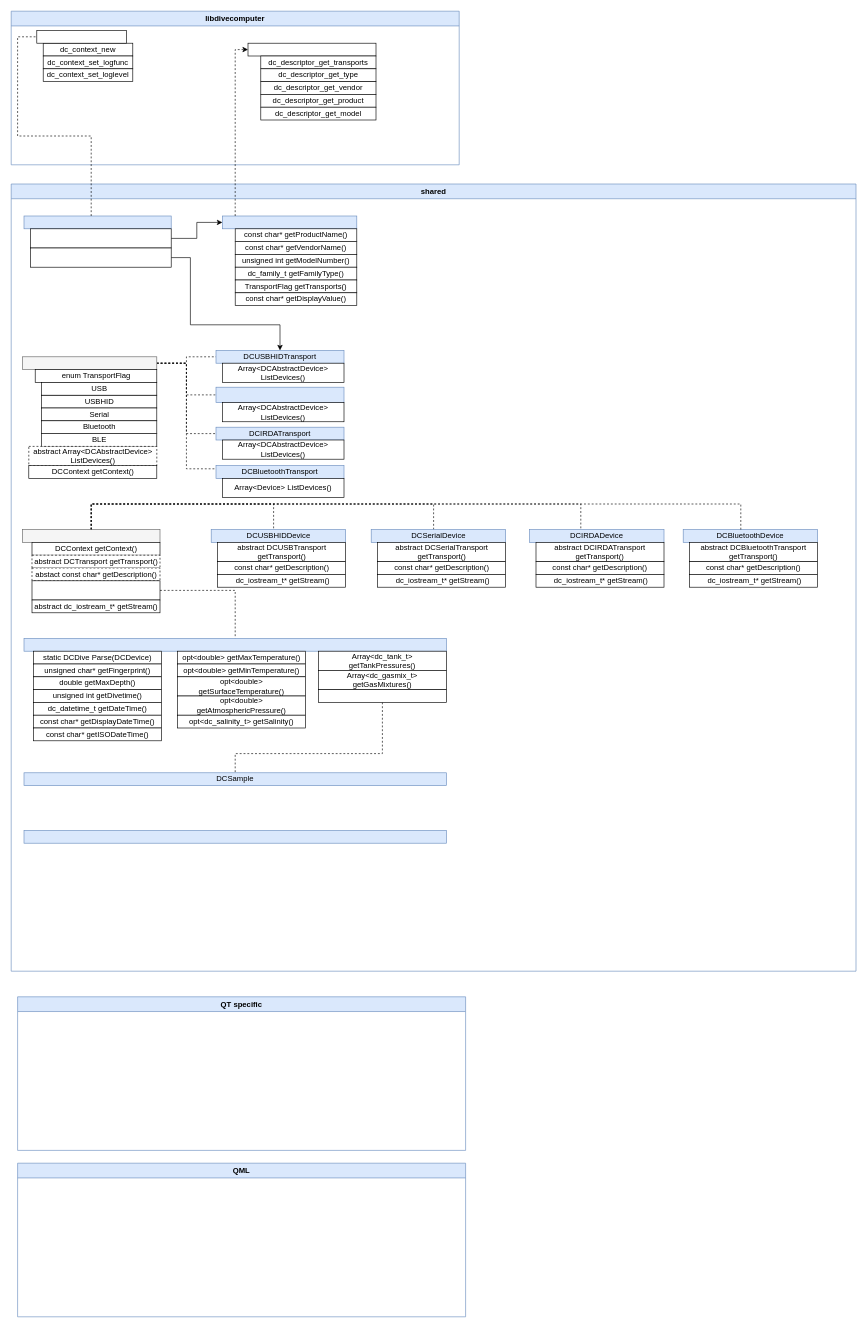
Image size: 867x1328. Some labels were removed from this diagram. Each missing label, with the centre of its shape:
Array<DCDeviceDescriptor> getDescriptors(): point (100, 238)
Array<DCSample> getSamples(): point (382, 695)
Array<DCTransport> getTransports(Transport flag): point (100, 257)
dc_context_t: point (81, 36)
dc_descriptor_t: point (311, 49)
dc_status_t getDives(callback_t): point (95, 590)
DCContext: point (97, 222)
DCDevice: point (91, 535)
DCDeviceDescriptor: point (289, 222)
DCDive: point (234, 644)
DCEvent: point (234, 836)
DCSerialTransport: point (279, 395)
DCTransport: point (89, 363)
